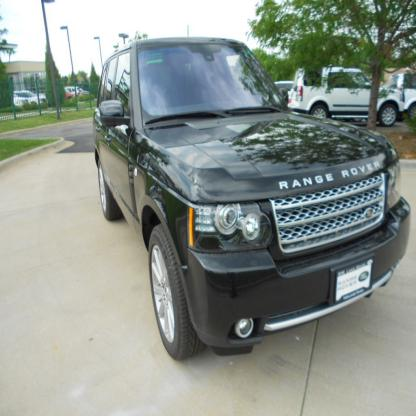Vehicle: (94, 39, 409, 361)
